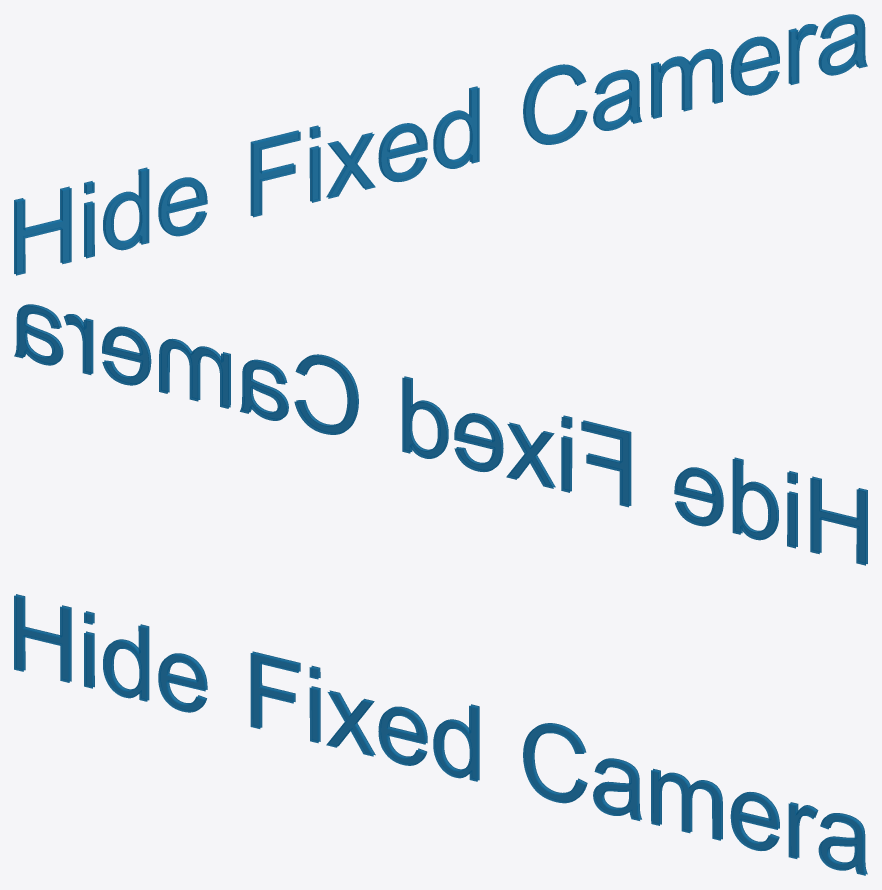
File: hide_fixed_camera.FBX
3 views of the same model, one above another, from view 1: azimuth 30°, elevation 25°; view 2: azimuth 150°, elevation 25°; view 3: azimuth 330°, elevation 25° (orthographic).
Parts seen in each view (by area): view 1: hide_fixed_camera; view 2: hide_fixed_camera; view 3: hide_fixed_camera.
Part boxes in pixels (x1,y1,x2,y2): hide_fixed_camera: (14,14,867,275); hide_fixed_camera: (14,304,867,565); hide_fixed_camera: (14,594,867,875).
Size of the model in its own units: 48.16 by 4.18 by 0.2294.
